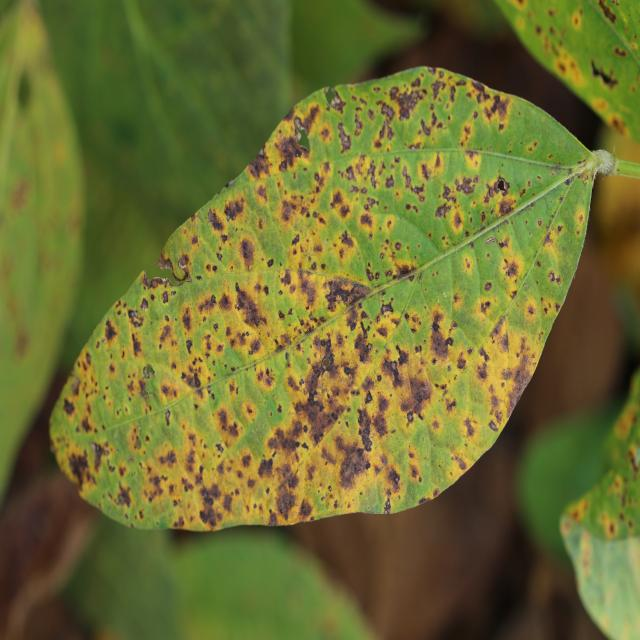Bacterial_Blight: (300, 353, 348, 457), (504, 342, 538, 414), (394, 365, 434, 424), (277, 185, 319, 238), (321, 276, 372, 313), (233, 282, 267, 330), (549, 41, 583, 86), (387, 84, 425, 123), (272, 422, 305, 464), (273, 131, 308, 170), (428, 315, 454, 364), (482, 90, 513, 130), (214, 404, 242, 445), (483, 173, 513, 210), (196, 488, 222, 528), (131, 369, 158, 407), (68, 449, 92, 487), (332, 228, 357, 264), (590, 59, 619, 89), (353, 324, 374, 363), (140, 270, 175, 292), (492, 319, 511, 356), (277, 488, 298, 519), (331, 188, 353, 217), (248, 151, 270, 179), (486, 393, 505, 425), (181, 365, 204, 391), (255, 365, 276, 391), (239, 237, 256, 269), (454, 174, 477, 197), (157, 322, 175, 351), (597, 0, 617, 25), (336, 122, 352, 153), (328, 87, 347, 112), (207, 207, 225, 233), (377, 118, 395, 143), (103, 316, 118, 344), (394, 262, 416, 280), (359, 210, 374, 233), (627, 446, 639, 473), (181, 306, 193, 332), (462, 417, 476, 438), (504, 260, 519, 279), (62, 397, 76, 417), (380, 103, 395, 121), (435, 202, 450, 219), (127, 308, 141, 325), (477, 346, 490, 363), (547, 270, 561, 285), (70, 377, 81, 395), (613, 46, 627, 58), (383, 497, 392, 513), (133, 433, 142, 449), (527, 304, 536, 317), (484, 281, 492, 292), (395, 241, 402, 251), (267, 258, 274, 267)
Soybean: (51, 67, 615, 530)
